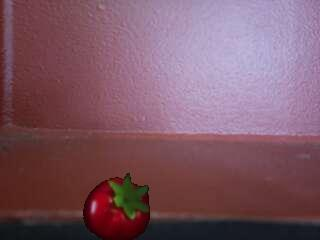Tomato: (83, 172, 152, 240)
